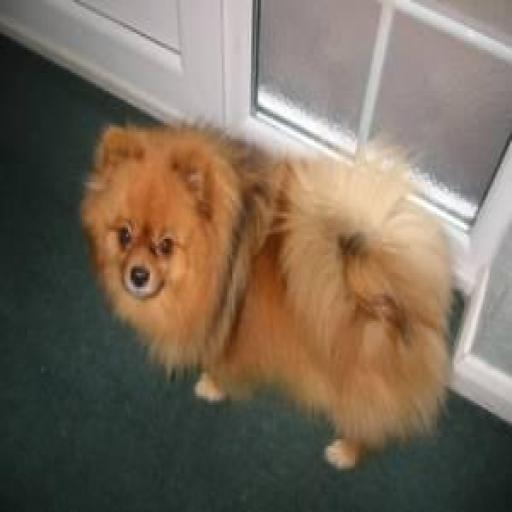dog_face: (89, 128, 213, 302)
